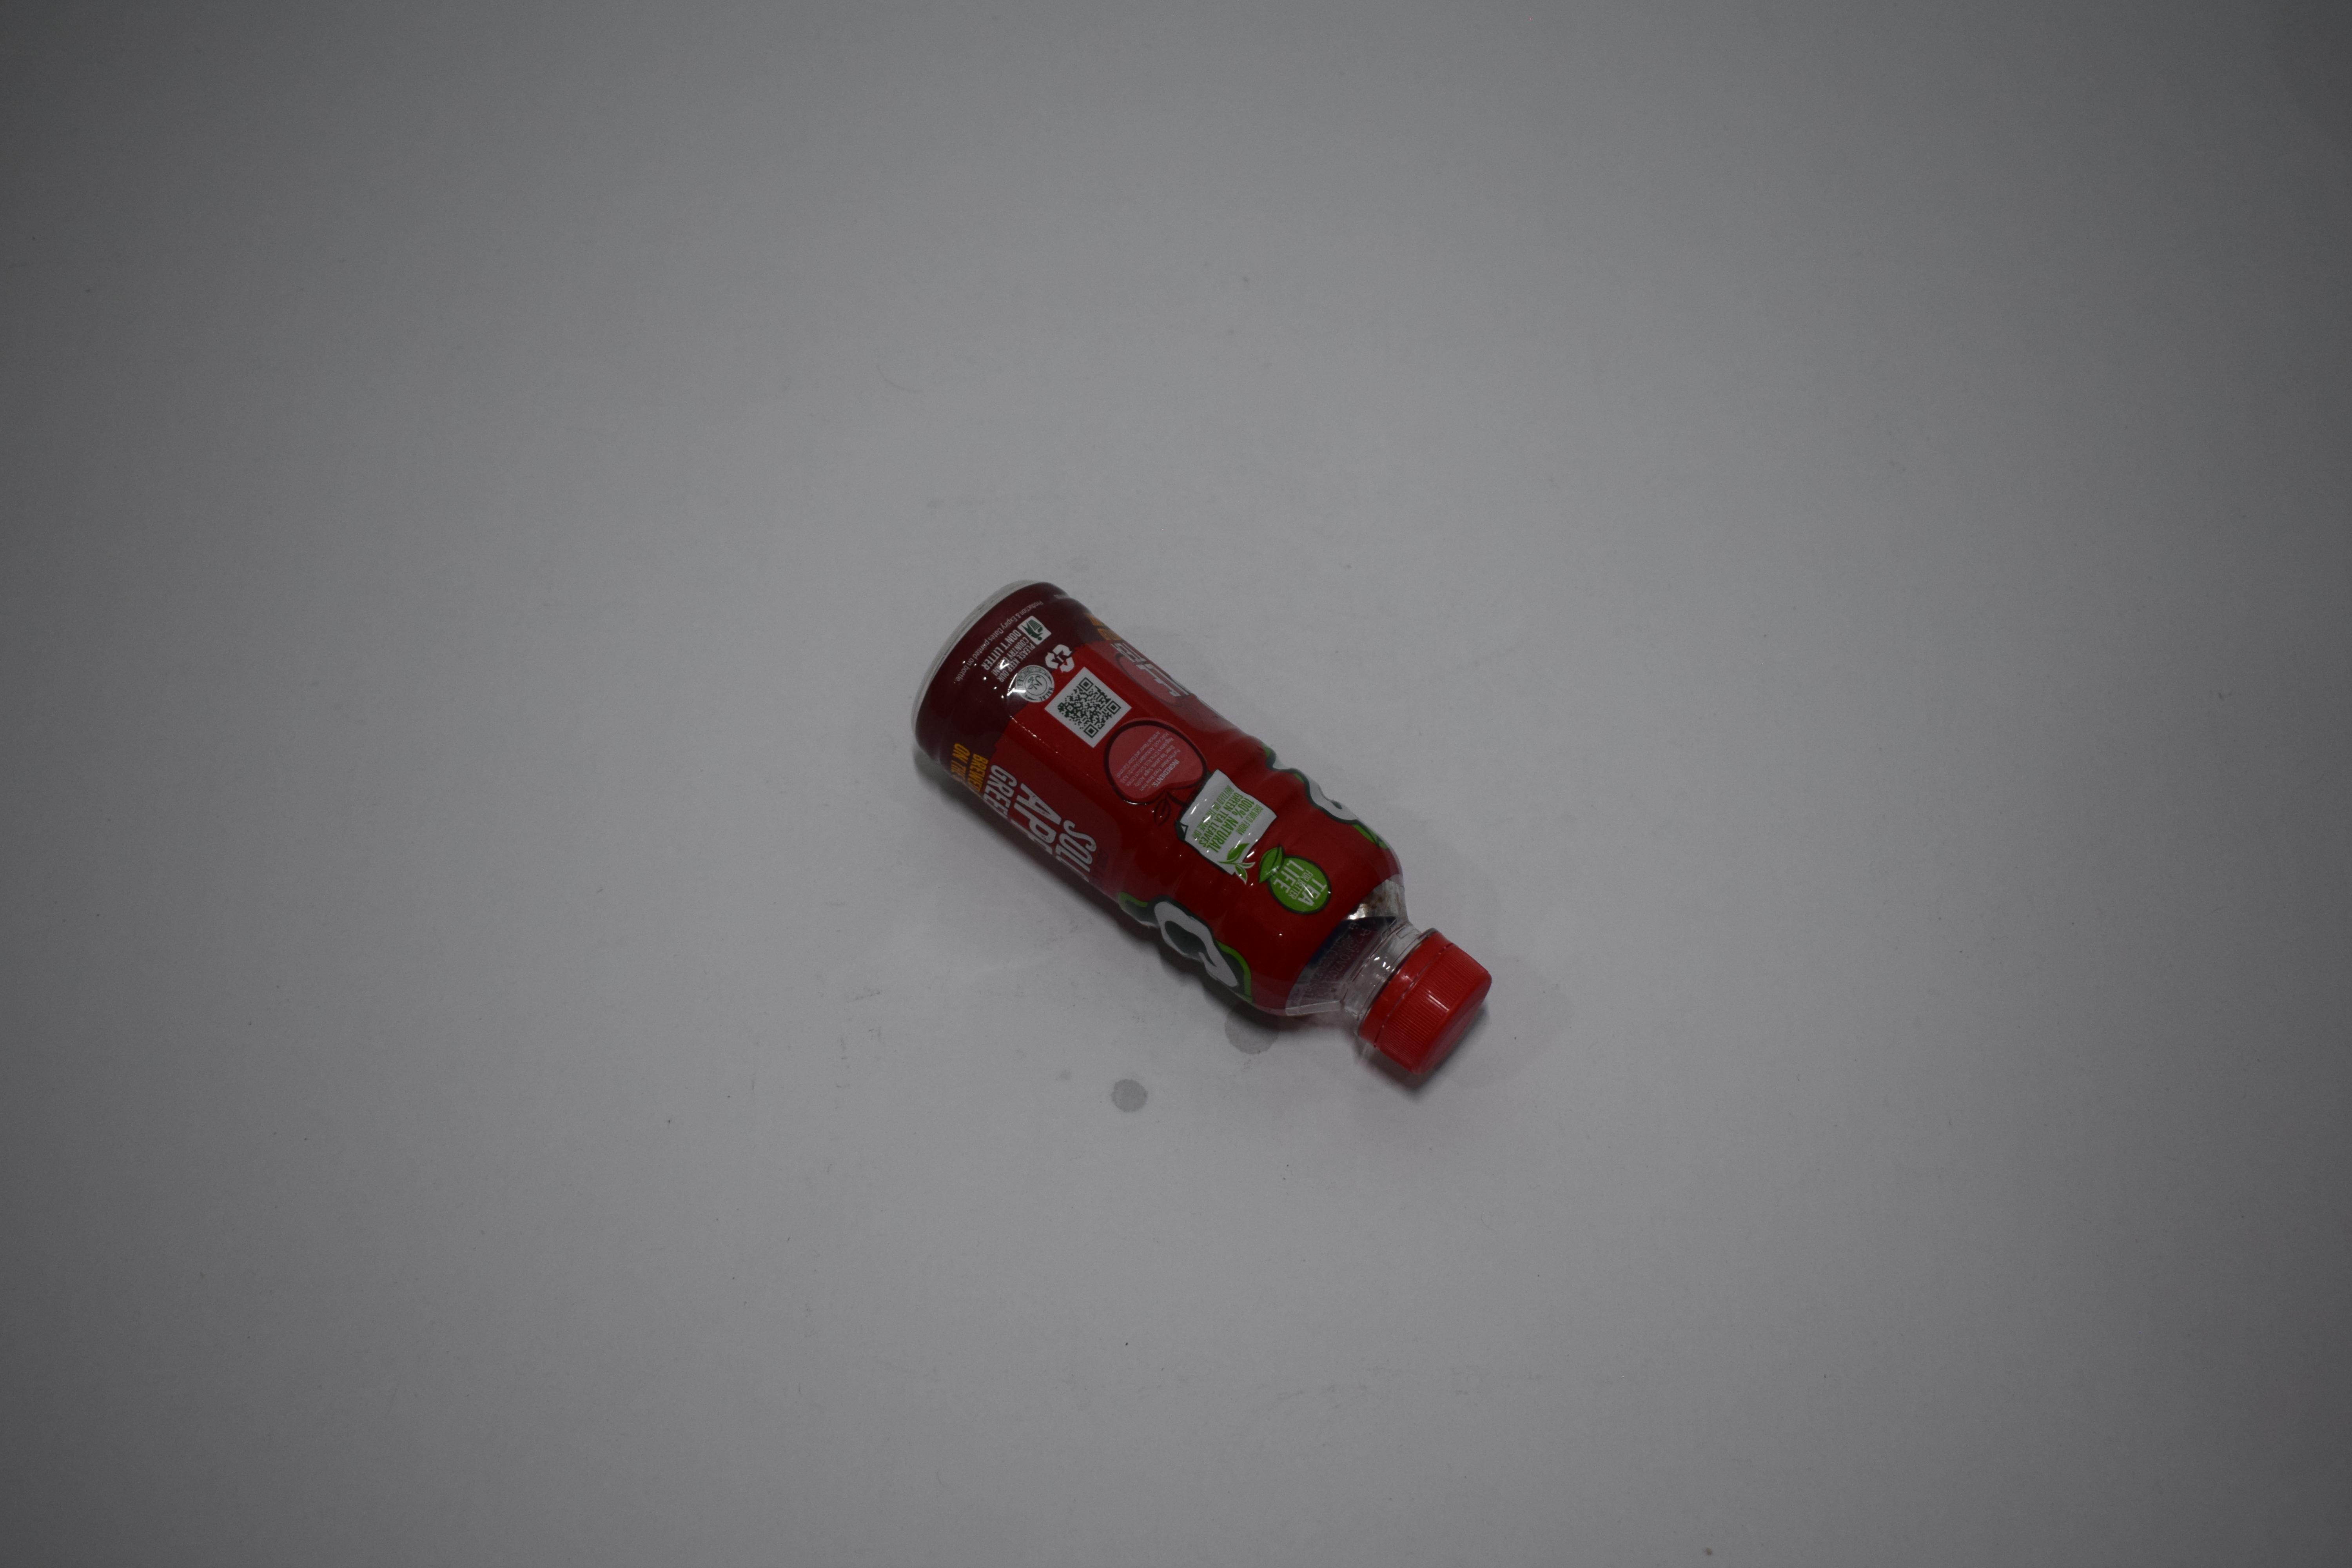bottle: (0, 0, 262, 320)
